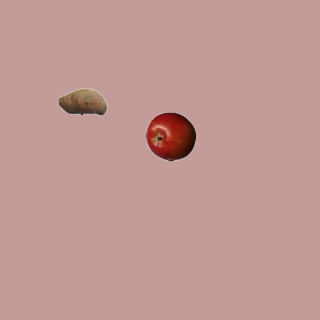Apple Braeburn: (145, 111, 195, 161)
Potato Sweet: (57, 76, 107, 126)
